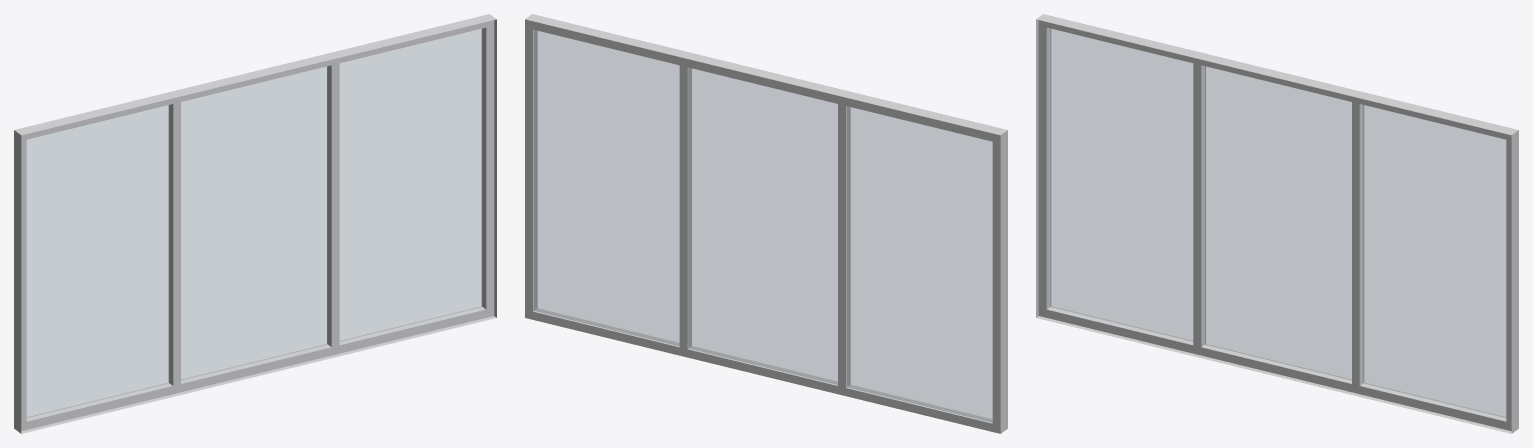
File: win_office_strip_3.0x1.8.glb
The picture shows the model from 3 angles, left to right: view 1: azimuth 30°, elevation 25°; view 2: azimuth 150°, elevation 25°; view 3: azimuth 330°, elevation 25°; orthographic projection.
Visible parts, largest first — view 1: win_strip; view 2: win_strip; view 3: win_strip.
Boxes of the visible parts, <box> form: win_strip: <box>14,14,496,433</box>; win_strip: <box>525,14,1007,433</box>; win_strip: <box>1036,14,1518,433</box>.
Size of the model in its own units: 3 by 1.8 by 0.08.
